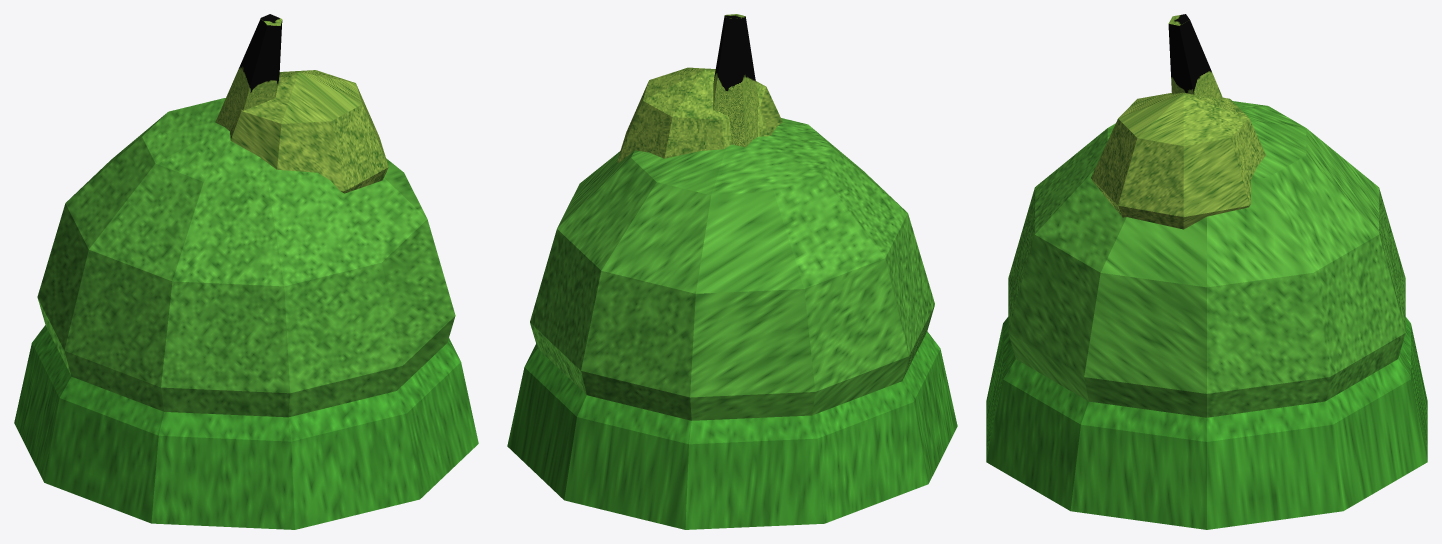
Rendered from biovine_item.glb.
3 views of the same model, side by side, from view 1: azimuth 30°, elevation 25°; view 2: azimuth 150°, elevation 25°; view 3: azimuth 270°, elevation 25° (orthographic). The views are drawn at different scales.
Parts seen in each view (by area): view 1: SeedBody, SeedBase, SeedBump, Sprout; view 2: SeedBody, SeedBase, SeedBump, Sprout; view 3: SeedBody, SeedBase, SeedBump, Sprout.
Part boxes in pixels (x1,y1,x2,y2): SeedBody: (37,98,455,417); SeedBase: (14,325,478,529); SeedBump: (230,70,388,193); Sprout: (215,14,282,131); SeedBody: (530,118,934,420); SeedBase: (507,331,957,529); SeedBump: (617,67,782,163); Sprout: (713,14,759,147); SeedBody: (1008,101,1405,417); SeedBase: (986,317,1427,529); SeedBump: (1091,92,1265,229); Sprout: (1168,14,1223,99).
Size of the model in its own units: 0.2 by 0.2295 by 0.1902.
3 materials, 3 textured.
